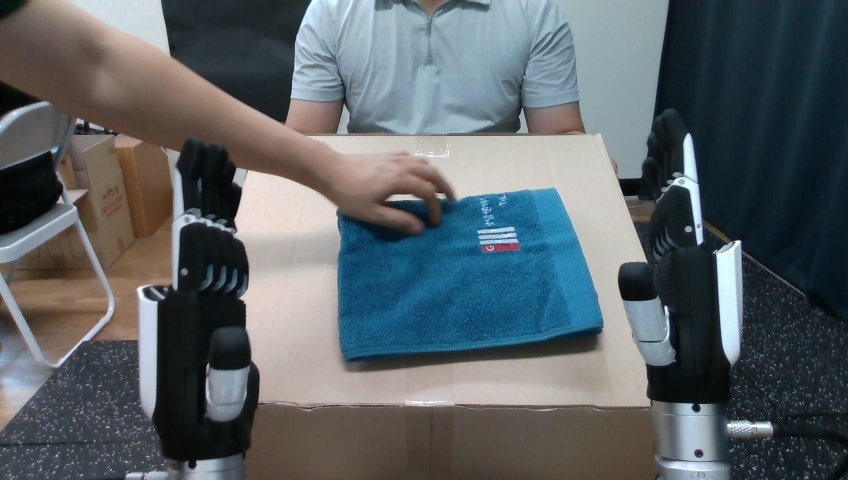left robot hand: (133, 139, 258, 479), (329, 153, 454, 234)
